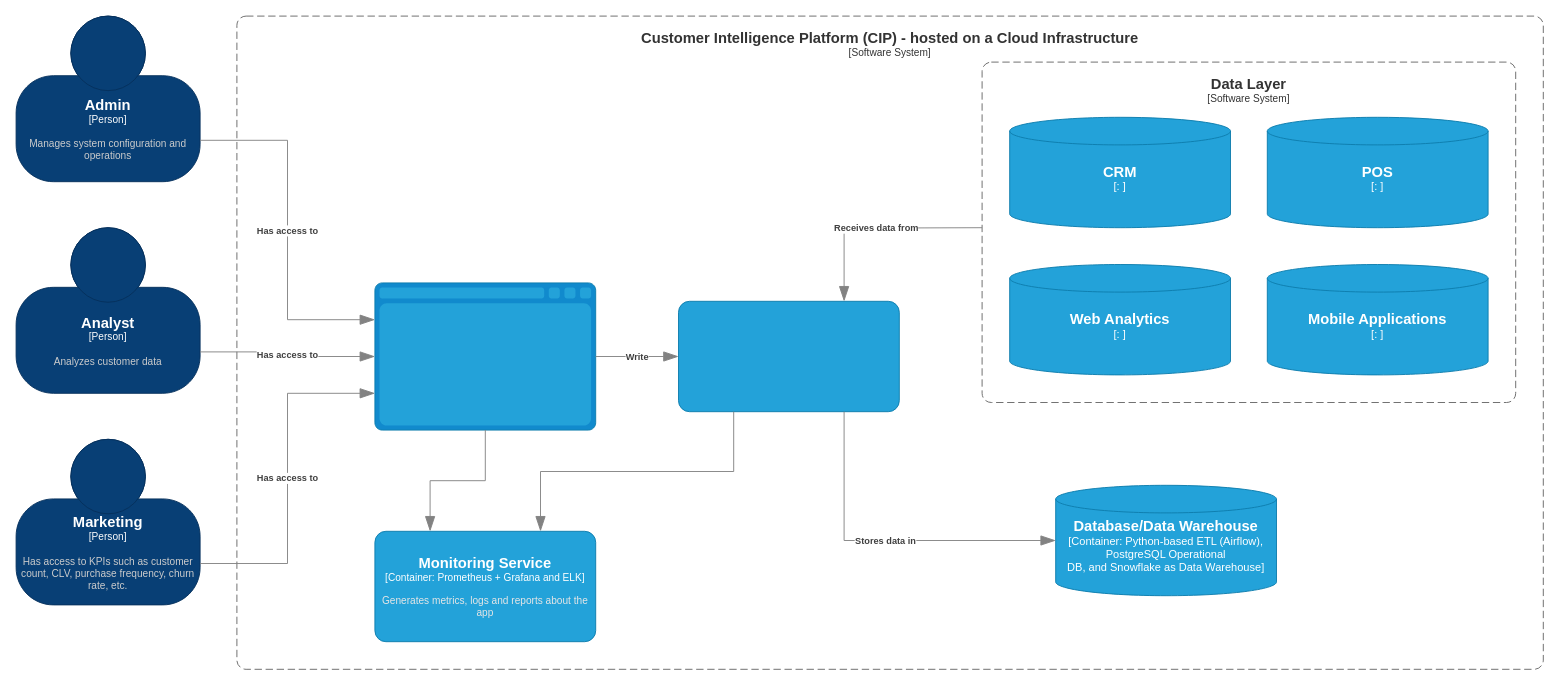
Some shapes in this 1559 by 685 pixel diagram are drawn without their labels. Each missing label, with the centre of its shape:
"RESTful API [Container: Node.js/Express]" belongs at point (788, 356).
"Web Application [Container: React]" belongs at point (485, 356).
